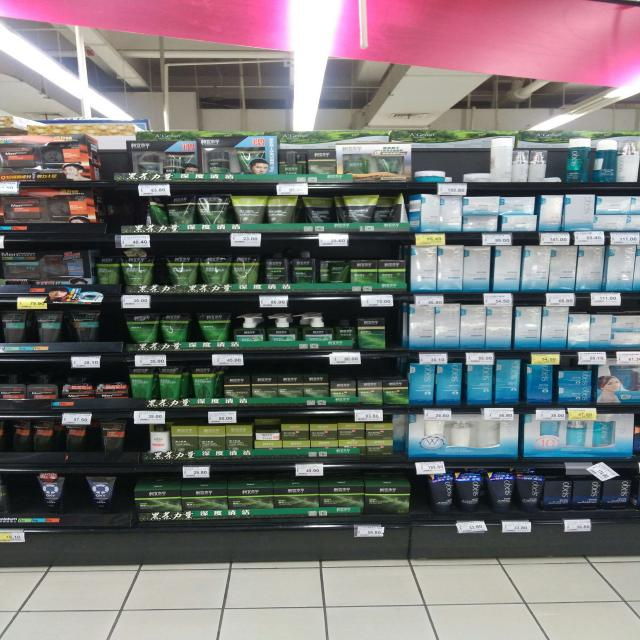unorganised: (463, 245, 609, 291), (3, 418, 90, 455), (35, 475, 117, 509), (591, 136, 620, 185), (298, 193, 336, 226), (410, 193, 440, 232), (430, 474, 458, 509), (168, 191, 195, 226), (499, 193, 539, 216), (382, 195, 411, 222), (145, 193, 167, 226), (253, 423, 283, 443)
